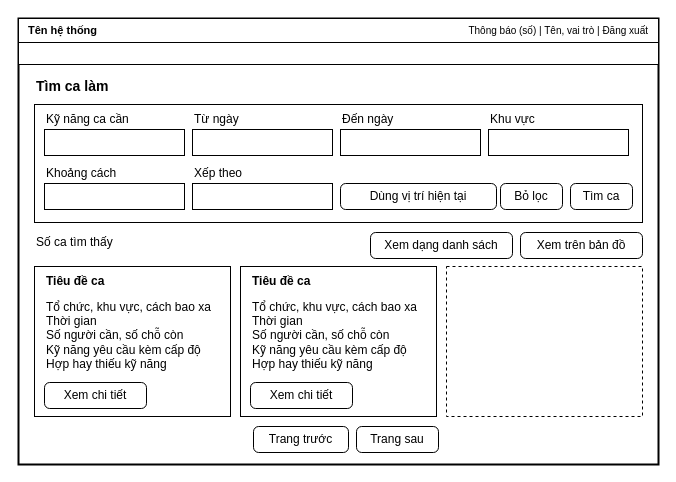
Some shapes in this 676 by 482 pixel diagram are drawn without their labels. The centre of each missing label's shape, as x and y in pixels:
Chế độ bản đồ: mỗi ca một vòng tròn khoanh vùng khoảng 1 km: point (544, 341)
Trang chủ | Tìm ca làm | Đăng ký của tôi | Lịch sử đóng góp | Hồ sơ và kỹ năng: point (338, 53)
